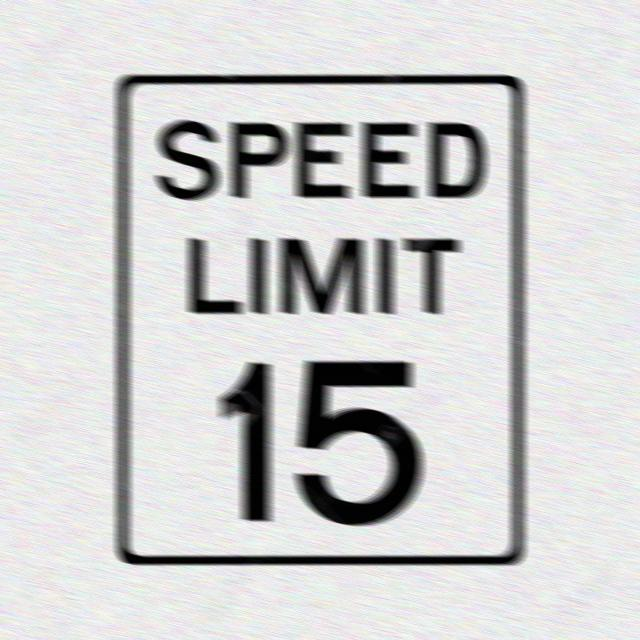speedLimit15: (114, 57, 532, 565)
